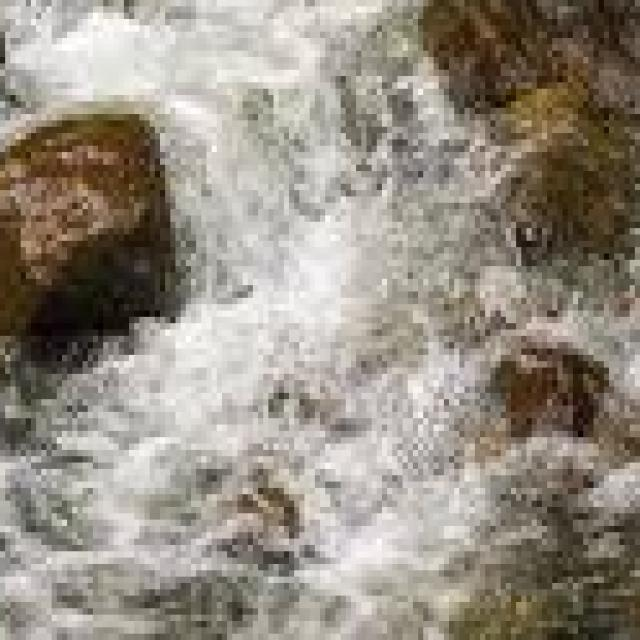-: (24, 30, 458, 622)
